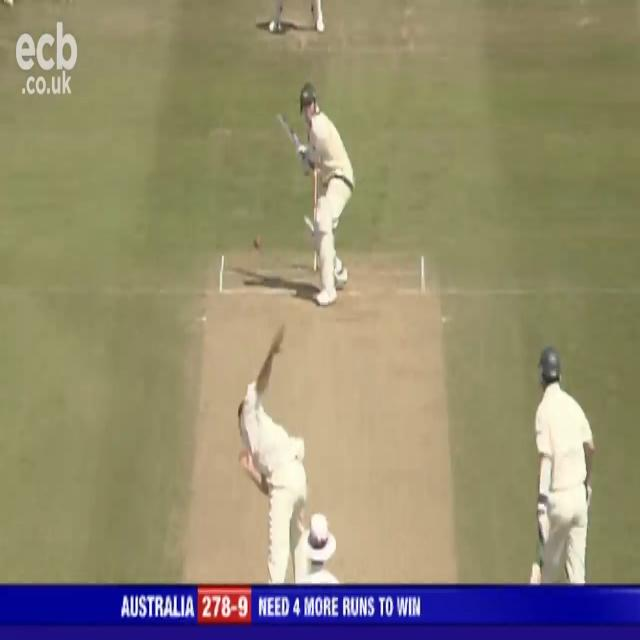ball: (250, 235, 264, 252)
